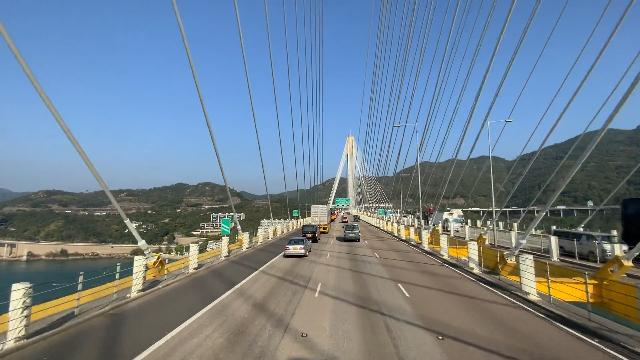car: (284, 237, 311, 259), (353, 214, 360, 222), (342, 216, 348, 222)
truck: (310, 204, 331, 233), (434, 211, 461, 233), (443, 208, 464, 227)
van: (342, 222, 361, 242), (301, 223, 320, 242)
